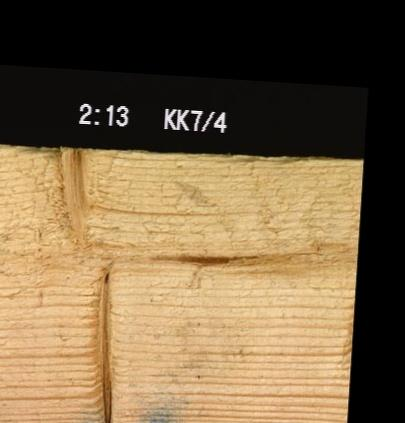split: (277, 236, 355, 260)
